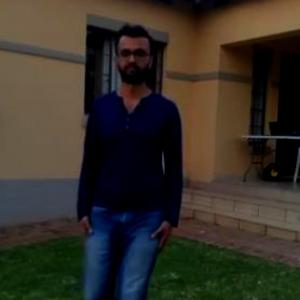follow: (81, 27, 186, 299)
